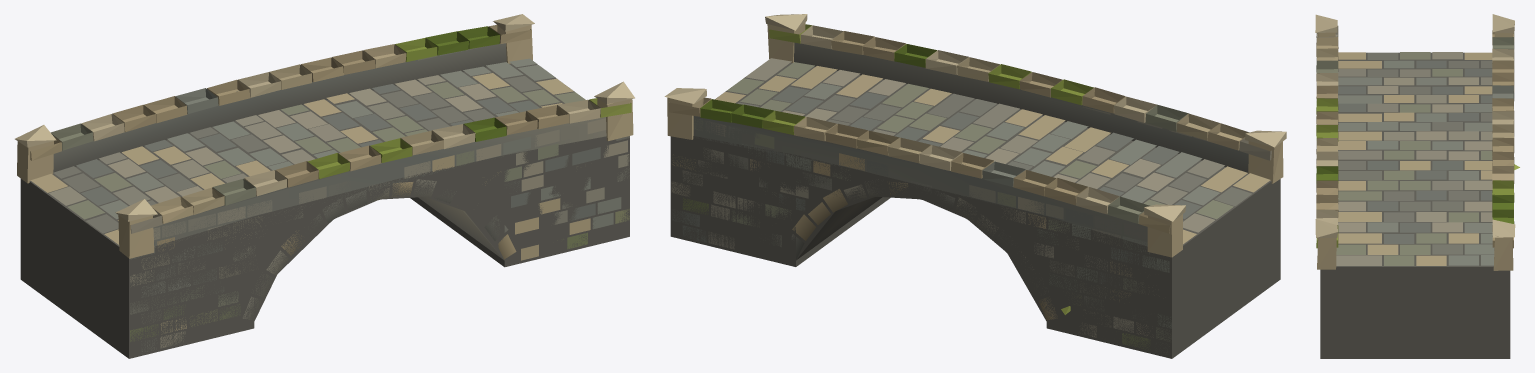
Rendered from town_bridge-lod1.glb.
3 renders of one model, left to right at view 1: azimuth 30°, elevation 25°; view 2: azimuth 150°, elevation 25°; view 3: azimuth 270°, elevation 25°, orthographic. The views are drawn at different scales.
Parts seen in each view (by area): view 1: town_bridge; view 2: town_bridge; view 3: town_bridge.
Boxes of the visible parts, box(x1,y1,x2,y2) form: town_bridge: box(15, 14, 634, 358); town_bridge: box(664, 14, 1286, 358); town_bridge: box(1315, 14, 1519, 358).
Bounding box in the file's own units: 16.26 × 4.49 × 6.47.
